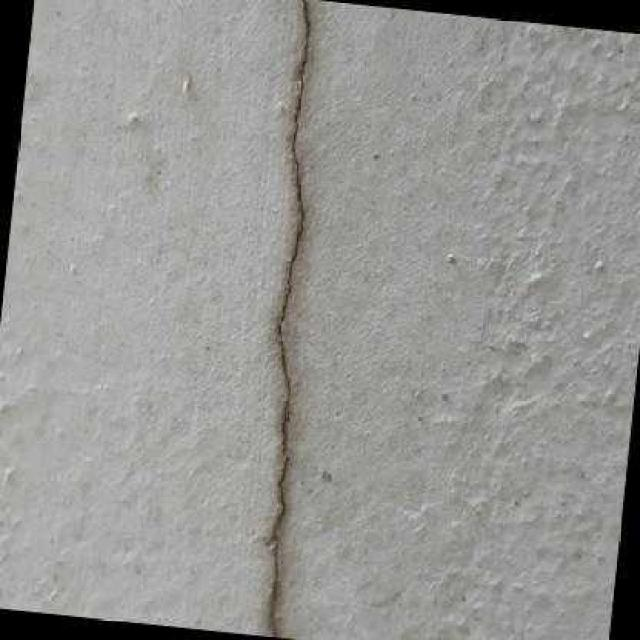D00: (269, 0, 307, 637)
